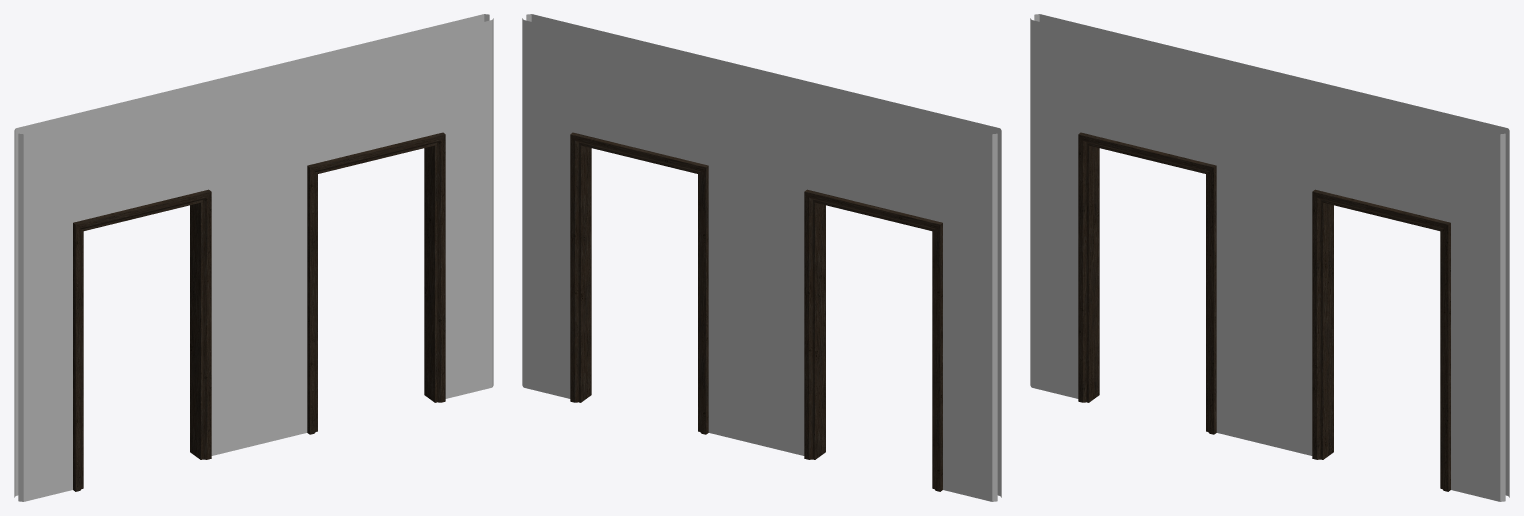
File: double_single_doorway_3.fbx
3 renders of one model, left to right at view 1: azimuth 30°, elevation 25°; view 2: azimuth 150°, elevation 25°; view 3: azimuth 330°, elevation 25°, orthographic.
Parts seen in each view (by area): view 1: double_single_doorway_3; view 2: double_single_doorway_3; view 3: double_single_doorway_3.
Boxes of the visible parts, <box> form: double_single_doorway_3: <box>14,14,493,501</box>; double_single_doorway_3: <box>522,14,1001,501</box>; double_single_doorway_3: <box>1030,14,1509,501</box>.
Size of the model in its own units: 4.06 by 3 by 0.2.
